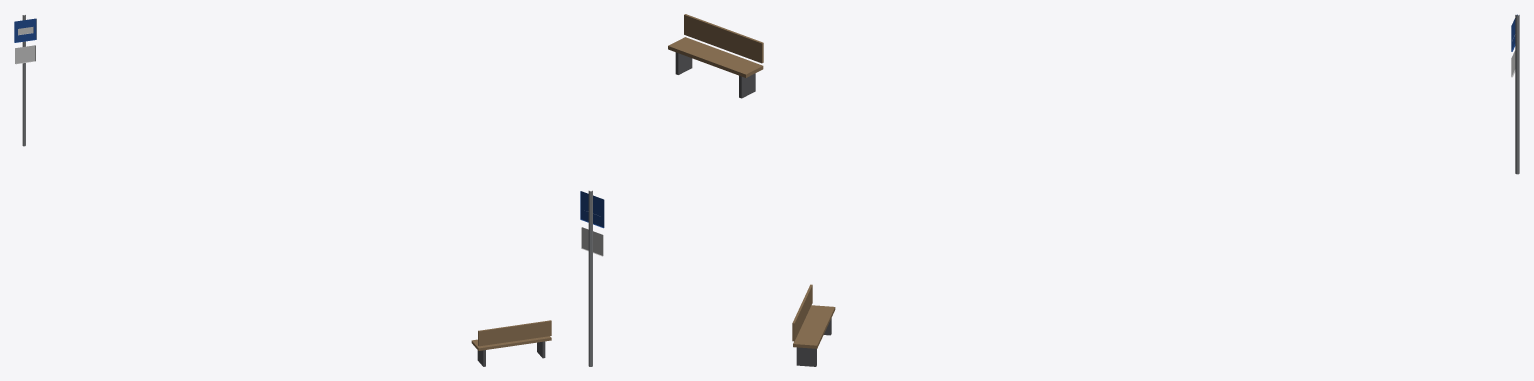
File: zastavky.glb
3 views of the same model, side by side, from view 1: azimuth 30°, elevation 25°; view 2: azimuth 150°, elevation 25°; view 3: azimuth 270°, elevation 25° (orthographic). The views are drawn at different scales.
Bounding box in the file's own units: 5.77 × 4.12 × 12.44.
